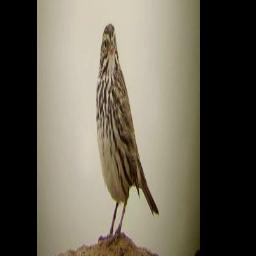Sparrow: (96, 21, 160, 248)
